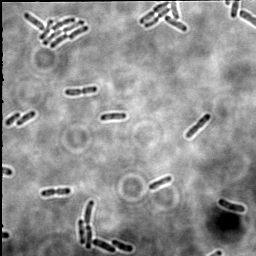Dividing: (184, 112, 212, 140), (83, 198, 96, 251), (62, 84, 100, 98), (40, 186, 72, 199)
Microcolony: (22, 11, 90, 50), (139, 1, 189, 31)
Rod: (217, 197, 247, 213), (147, 174, 173, 192), (15, 109, 38, 127), (92, 237, 116, 254), (98, 111, 129, 123), (111, 238, 134, 252), (3, 111, 21, 128), (77, 218, 86, 246)
